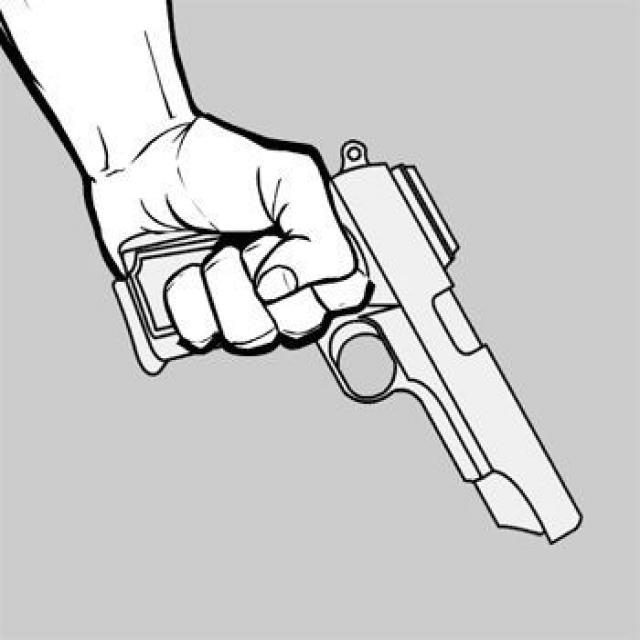guns: (121, 136, 587, 538)
